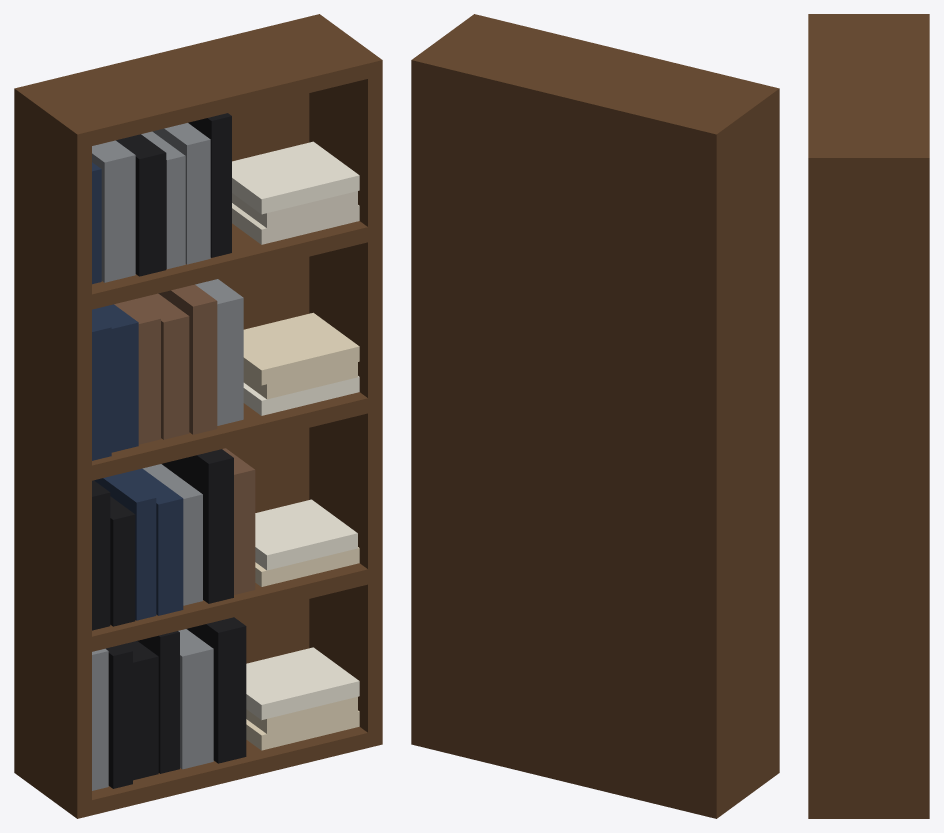
File: GH_Bookcase_04.glb
3 views of the same model, side by side, from view 1: azimuth 30°, elevation 25°; view 2: azimuth 150°, elevation 25°; view 3: azimuth 270°, elevation 25° (orthographic). The views are drawn at different scales.
Visible parts, largest first — view 1: GH_Bookcase_04; view 2: GH_Bookcase_04; view 3: GH_Bookcase_04.
Boxes of the visible parts, x1,y1,x2,y2 form: GH_Bookcase_04: (14, 14, 382, 818); GH_Bookcase_04: (411, 14, 779, 818); GH_Bookcase_04: (808, 14, 929, 818).
Size of the model in its own units: 0.84 by 1.8 by 0.3.
1 material, 1 textured.
